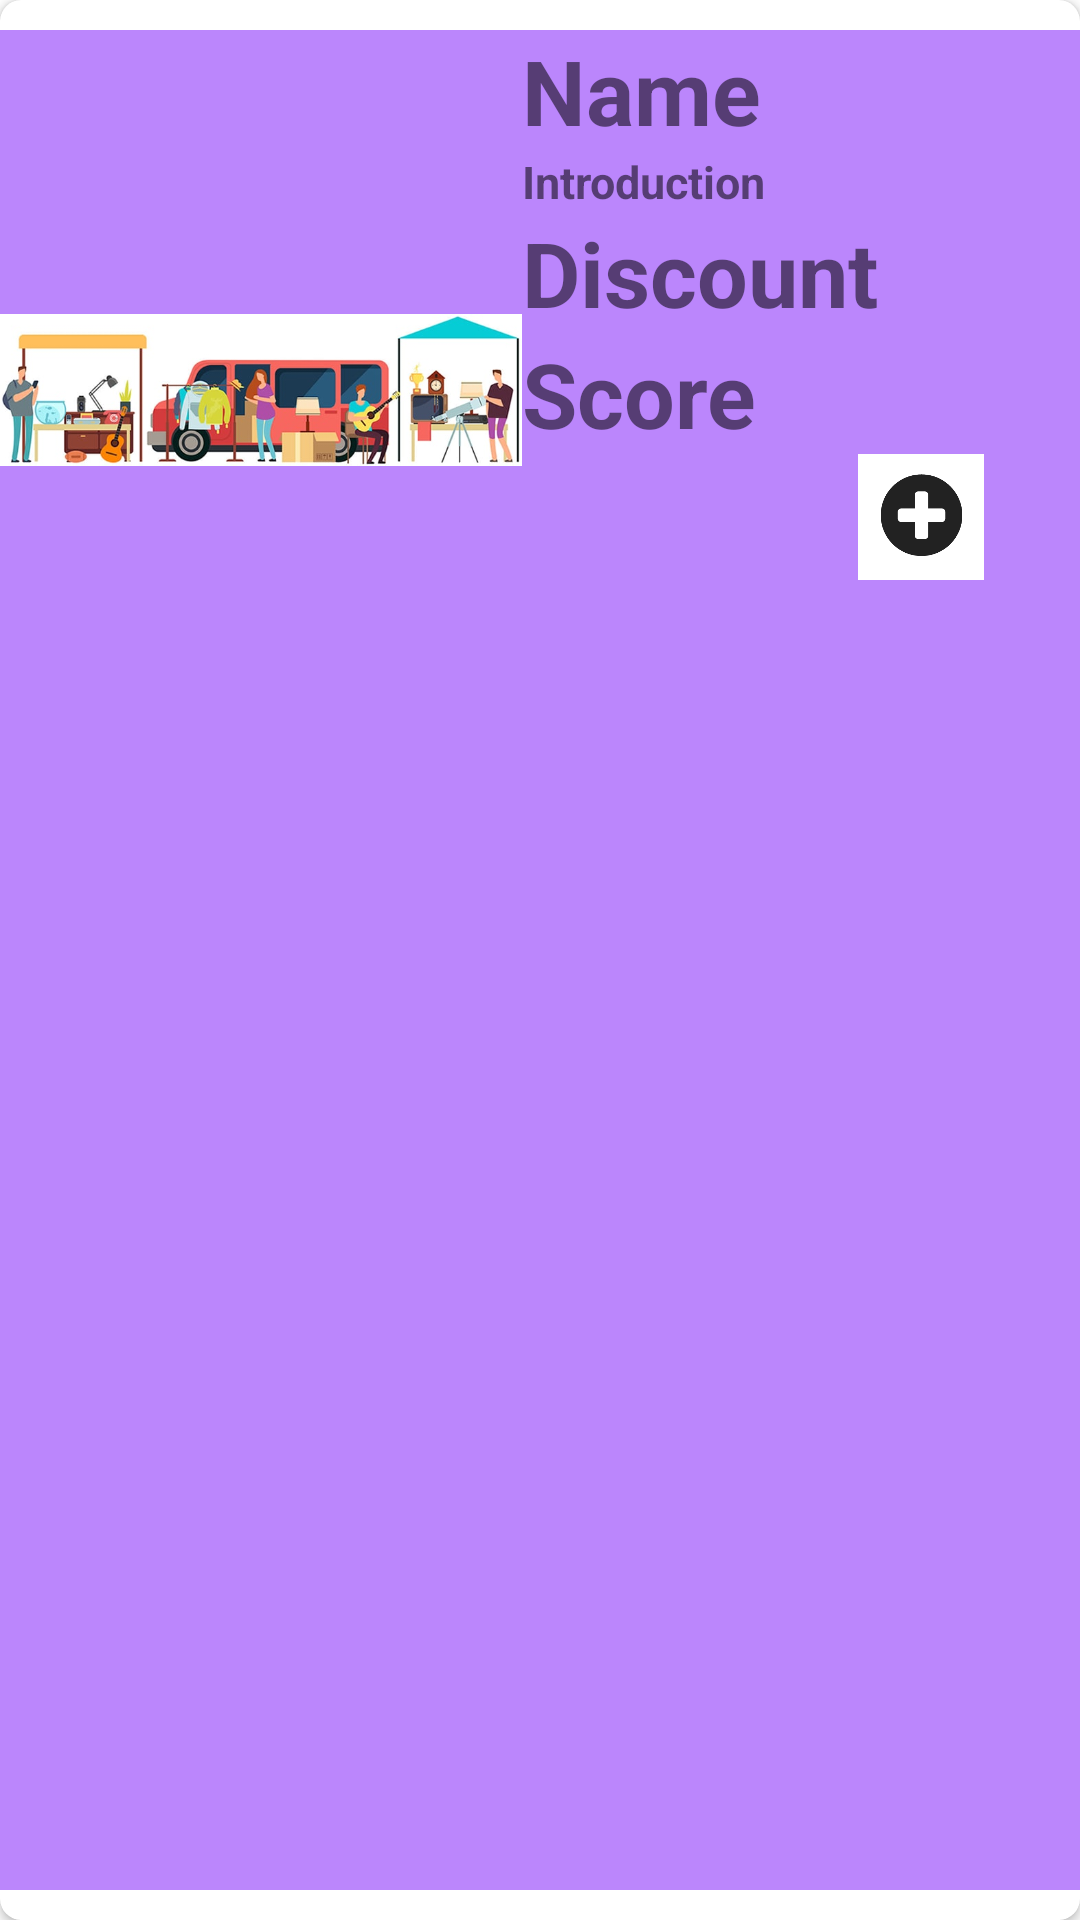

Named icons in this screenshot (1080px x 1920px) and their bounding boxes, (x1, y1, x2, y2):
add: (858, 454, 984, 580)
